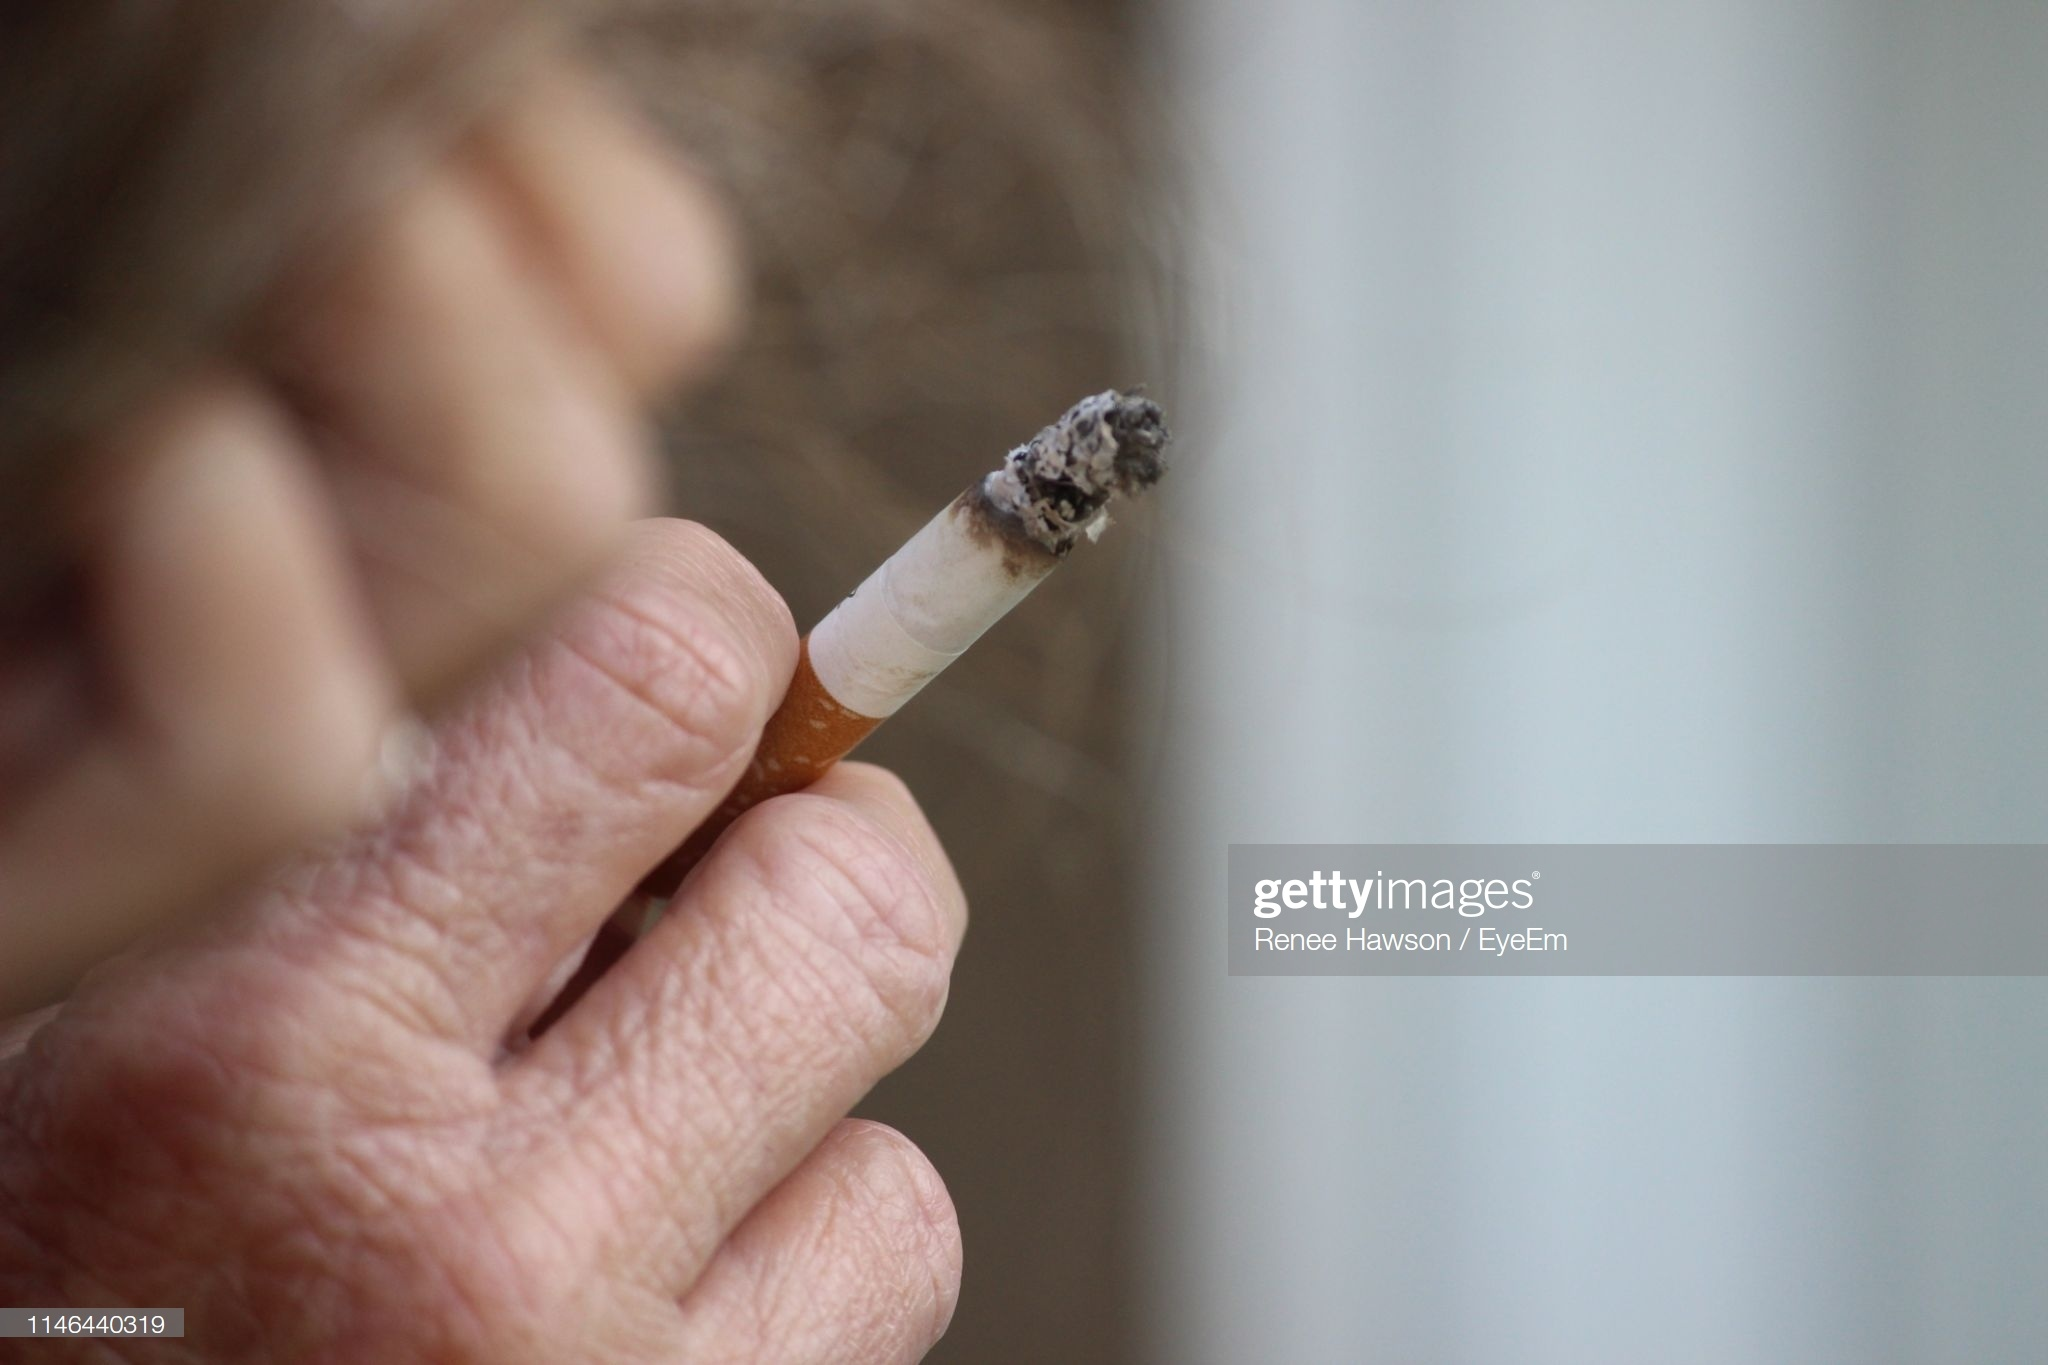sigaretta: (713, 407, 1160, 794)
